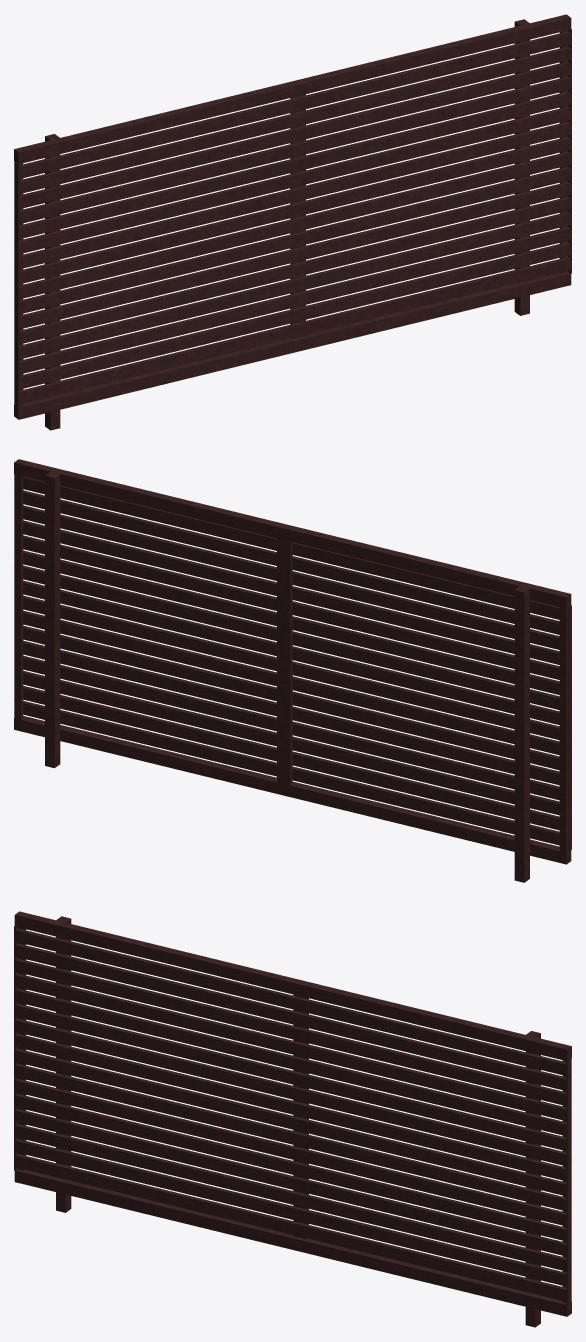
Rendered from dsf_yoko40_h1000_rustycopper.fbx.
The picture shows the model from 3 angles, top to bottom: view 1: azimuth 30°, elevation 25°; view 2: azimuth 150°, elevation 25°; view 3: azimuth 330°, elevation 25°; orthographic projection.
Parts seen in each view (by area): view 1: dsf_yoko40_h1000_rustycopper; view 2: dsf_yoko40_h1000_rustycopper; view 3: dsf_yoko40_h1000_rustycopper.
Part boxes in pixels (left/top/right/bottom): dsf_yoko40_h1000_rustycopper: left=14, top=14, right=571, bottom=430; dsf_yoko40_h1000_rustycopper: left=14, top=459, right=571, bottom=882; dsf_yoko40_h1000_rustycopper: left=14, top=911, right=571, bottom=1327.
Size of the model in its own units: 200 by 100 by 6.55.
1 material, 1 textured.
